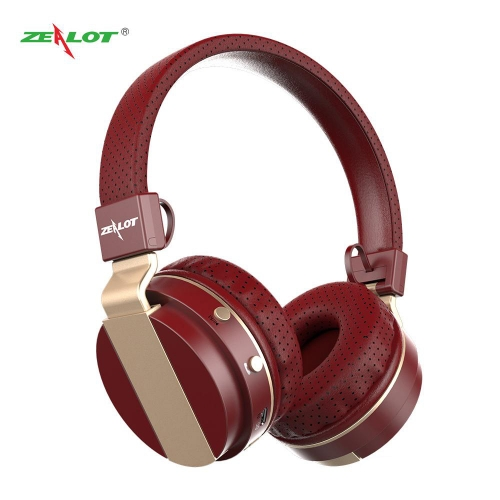Headphone: (86, 27, 427, 475)
